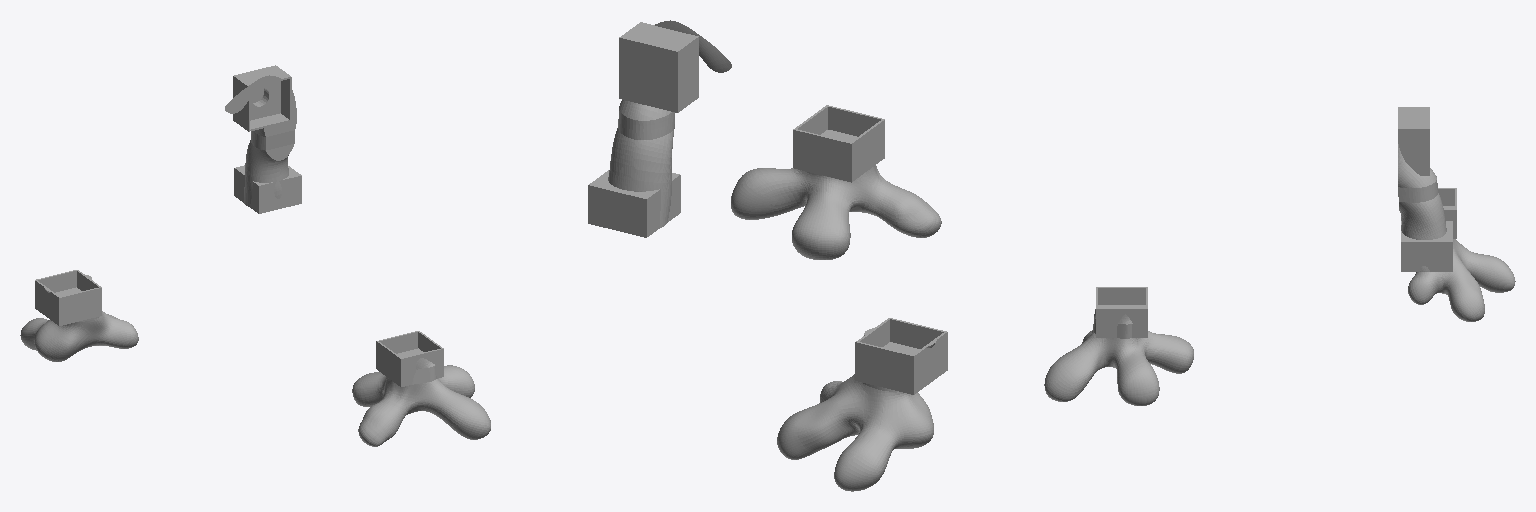
URDF robot description (FrogBot2_top-FrogBot2-y-3_bottom-FrogBot2-y-3):
<?xml version="1.0" ?>
<robot name="FrogBot2_top-FrogBot2-y-3_bottom-FrogBot2-y-3">

<material name="pla_5_percent_infill">
  <color rgba="0.700 0.700 0.700 1.000"/>
</material>

<link name="base_link">
  <inertial>
    <origin xyz="0 0 0" rpy="0 0 0"/>
    <mass value="1.3341577719423"/>
    <inertia ixx="0.0046797925109551535" iyy="0.011134478382956134" izz="0.010477176548232365" ixy="0.00012495104989682066" iyz="8.213962567094231e-05" ixz="-0.002474445058077273"/>
  </inertial>
  <visual>
    <origin xyz="0 0 0" rpy="0 0 0"/>
    <geometry>
      <mesh filename="simple_meshes/base_link.stl" scale="0.001 0.001 0.001"/>
    </geometry>
    <material name="pla_5_percent_infill"/>
  </visual>
  <collision>
    <origin xyz="0 0 0" rpy="0 0 0"/>
    <geometry>
      <mesh filename="simple_meshes/base_link.stl" scale="0.001 0.001 0.001"/>
    </geometry>
  </collision>
</link>

<link name="body_1_0_1">
  <inertial>
    <origin xyz="-0.053395 -0.09218 -0.023663" rpy="0 0 0"/>
    <mass value="0.05648160684277666"/>
    <inertia ixx="8.17384691846933e-05" iyy="8.51372283889378e-05" izz="1.9048322606937933e-05" ixy="-2.575033275290504e-07" iyz="5.440145892124311e-06" ixz="8.44998256969378e-06"/>
  </inertial>
  <visual>
    <origin xyz="-0.053395 -0.09218 -0.023663" rpy="0 0 0"/>
    <geometry>
      <mesh filename="simple_meshes/body_1_0_1.stl" scale="0.001 0.001 0.001"/>
    </geometry>
    <material name="pla_5_percent_infill"/>
  </visual>
  <collision>
    <origin xyz="-0.053395 -0.09218 -0.023663" rpy="0 0 0"/>
    <geometry>
      <mesh filename="simple_meshes/body_1_0_1.stl" scale="0.001 0.001 0.001"/>
    </geometry>
  </collision>
</link>

<link name="body_1_1_1">
  <inertial>
    <origin xyz="0.095032 -0.09218 0.005345" rpy="0 0 0"/>
    <mass value="0.11343408939786619"/>
    <inertia ixx="8.876701132902974e-05" iyy="0.00015893219856201782" izz="0.00011116326467815792" ixy="5.126560505398e-06" iyz="5.655912101525736e-06" ixz="-4.357744184957981e-05"/>
  </inertial>
  <visual>
    <origin xyz="0.095032 -0.09218 0.005345" rpy="0 0 0"/>
    <geometry>
      <mesh filename="simple_meshes/body_1_1_1.stl" scale="0.001 0.001 0.001"/>
    </geometry>
    <material name="pla_5_percent_infill"/>
  </visual>
  <collision>
    <origin xyz="0.095032 -0.09218 0.005345" rpy="0 0 0"/>
    <geometry>
      <mesh filename="simple_meshes/body_1_1_1.stl" scale="0.001 0.001 0.001"/>
    </geometry>
  </collision>
</link>

<link name="body_1_2_1">
  <inertial>
    <origin xyz="-0.041549 0.09218 -0.043945" rpy="0 0 0"/>
    <mass value="0.06437215046671935"/>
    <inertia ixx="0.00013958336140981178" iyy="0.00014477917411189354" izz="3.019889518643881e-05" ixy="1.5514756816226443e-06" iyz="-1.9056976135542177e-05" ixz="2.018982065934554e-05"/>
  </inertial>
  <visual>
    <origin xyz="-0.041549 0.09218 -0.043945" rpy="0 0 0"/>
    <geometry>
      <mesh filename="simple_meshes/body_1_2_1.stl" scale="0.001 0.001 0.001"/>
    </geometry>
    <material name="pla_5_percent_infill"/>
  </visual>
  <collision>
    <origin xyz="-0.041549 0.09218 -0.043945" rpy="0 0 0"/>
    <geometry>
      <mesh filename="simple_meshes/body_1_2_1.stl" scale="0.001 0.001 0.001"/>
    </geometry>
  </collision>
</link>

<link name="body_1_3_1">
  <inertial>
    <origin xyz="0.087142 0.09218 -0.003397" rpy="0 0 0"/>
    <mass value="0.11618853477267414"/>
    <inertia ixx="9.156363317311877e-05" iyy="0.0001600990692707748" izz="0.00011186851080517181" ixy="-8.427779590018062e-06" iyz="-5.743181871006755e-06" ixz="-4.379667387535561e-05"/>
  </inertial>
  <visual>
    <origin xyz="0.087142 0.09218 -0.003397" rpy="0 0 0"/>
    <geometry>
      <mesh filename="simple_meshes/body_1_3_1.stl" scale="0.001 0.001 0.001"/>
    </geometry>
    <material name="pla_5_percent_infill"/>
  </visual>
  <collision>
    <origin xyz="0.087142 0.09218 -0.003397" rpy="0 0 0"/>
    <geometry>
      <mesh filename="simple_meshes/body_1_3_1.stl" scale="0.001 0.001 0.001"/>
    </geometry>
  </collision>
</link>

<link name="body_2_0_1">
  <inertial>
    <origin xyz="-0.065654 -0.139685 0.109558" rpy="0 0 0"/>
    <mass value="0.10732840415785681"/>
    <inertia ixx="0.0001192305096259184" iyy="0.00013145371837321" izz="0.00019098555863710908" ixy="-1.0502149492426375e-05" iyz="5.363771324035874e-06" ixz="7.047950432088543e-06"/>
  </inertial>
  <visual>
    <origin xyz="-0.065654 -0.139685 0.109558" rpy="0 0 0"/>
    <geometry>
      <mesh filename="simple_meshes/body_2_0_1.stl" scale="0.001 0.001 0.001"/>
    </geometry>
    <material name="pla_5_percent_infill"/>
  </visual>
  <collision>
    <origin xyz="-0.065654 -0.139685 0.109558" rpy="0 0 0"/>
    <geometry>
      <mesh filename="simple_meshes/body_2_0_1.stl" scale="0.001 0.001 0.001"/>
    </geometry>
  </collision>
</link>

<link name="body_2_1_1">
  <inertial>
    <origin xyz="0.15751 -0.143533 0.109558" rpy="0 0 0"/>
    <mass value="0.0860653626022424"/>
    <inertia ixx="7.756502601669046e-05" iyy="9.193496740516217e-05" izz="9.721637056358742e-05" ixy="-4.6656477964922803e-07" iyz="2.136040429450174e-05" ixz="1.2574656839804774e-05"/>
  </inertial>
  <visual>
    <origin xyz="0.15751 -0.143533 0.109558" rpy="0 0 0"/>
    <geometry>
      <mesh filename="simple_meshes/body_2_1_1.stl" scale="0.001 0.001 0.001"/>
    </geometry>
    <material name="pla_5_percent_infill"/>
  </visual>
  <collision>
    <origin xyz="0.15751 -0.143533 0.109558" rpy="0 0 0"/>
    <geometry>
      <mesh filename="simple_meshes/body_2_1_1.stl" scale="0.001 0.001 0.001"/>
    </geometry>
  </collision>
</link>

<link name="body_2_2_1">
  <inertial>
    <origin xyz="-0.061161 0.145934 0.109558" rpy="0 0 0"/>
    <mass value="0.10499428380845426"/>
    <inertia ixx="0.00011928823712848216" iyy="0.0001282802502921218" izz="0.0001908686347146353" ixy="1.171953890061867e-05" iyz="-3.3117822349024856e-06" ixz="4.193734802363262e-06"/>
  </inertial>
  <visual>
    <origin xyz="-0.061161 0.145934 0.109558" rpy="0 0 0"/>
    <geometry>
      <mesh filename="simple_meshes/body_2_2_1.stl" scale="0.001 0.001 0.001"/>
    </geometry>
    <material name="pla_5_percent_infill"/>
  </visual>
  <collision>
    <origin xyz="-0.061161 0.145934 0.109558" rpy="0 0 0"/>
    <geometry>
      <mesh filename="simple_meshes/body_2_2_1.stl" scale="0.001 0.001 0.001"/>
    </geometry>
  </collision>
</link>

<link name="body_2_3_1">
  <inertial>
    <origin xyz="0.160089 0.145768 0.109558" rpy="0 0 0"/>
    <mass value="0.0808882115237439"/>
    <inertia ixx="7.868983741954935e-05" iyy="8.728263659224262e-05" izz="9.167010927556112e-05" ixy="-2.407602347498112e-07" iyz="-2.2565158794420753e-05" ixz="1.6436364140187502e-05"/>
  </inertial>
  <visual>
    <origin xyz="0.160089 0.145768 0.109558" rpy="0 0 0"/>
    <geometry>
      <mesh filename="simple_meshes/body_2_3_1.stl" scale="0.001 0.001 0.001"/>
    </geometry>
    <material name="pla_5_percent_infill"/>
  </visual>
  <collision>
    <origin xyz="0.160089 0.145768 0.109558" rpy="0 0 0"/>
    <geometry>
      <mesh filename="simple_meshes/body_2_3_1.stl" scale="0.001 0.001 0.001"/>
    </geometry>
  </collision>
</link>

<joint name="joint_1_0" type="revolute">
  <origin xyz="0.053395 0.09218 0.023663" rpy="0 0 0"/>
  <parent link="base_link"/>
  <child link="body_1_0_1"/>
  <axis xyz="0.0 0.0 -1.0"/>
  <limit upper="1.2" lower="-1.2" effort="3.8" velocity="5.4"/>
</joint>
<transmission name="joint_1_0_tran">
  <type>transmission_interface/SimpleTransmission</type>
  <joint name="joint_1_0">
    <hardwareInterface>PositionJointInterface</hardwareInterface>
  </joint>
  <actuator name="joint_1_0_actr">
    <hardwareInterface>PositionJointInterface</hardwareInterface>
    <mechanicalReduction>1</mechanicalReduction>
  </actuator>
</transmission>

<joint name="joint_1_1" type="revolute">
  <origin xyz="-0.095032 0.09218 -0.005345" rpy="0 0 0"/>
  <parent link="base_link"/>
  <child link="body_1_1_1"/>
  <axis xyz="0.0 0.0 -1.0"/>
  <limit upper="1.2" lower="-1.2" effort="3.8" velocity="5.4"/>
</joint>
<transmission name="joint_1_1_tran">
  <type>transmission_interface/SimpleTransmission</type>
  <joint name="joint_1_1">
    <hardwareInterface>PositionJointInterface</hardwareInterface>
  </joint>
  <actuator name="joint_1_1_actr">
    <hardwareInterface>PositionJointInterface</hardwareInterface>
    <mechanicalReduction>1</mechanicalReduction>
  </actuator>
</transmission>

<joint name="joint_1_2" type="revolute">
  <origin xyz="0.041549 -0.09218 0.043945" rpy="0 0 0"/>
  <parent link="base_link"/>
  <child link="body_1_2_1"/>
  <axis xyz="0.0 0.0 -1.0"/>
  <limit upper="1.2" lower="-1.2" effort="3.8" velocity="5.4"/>
</joint>
<transmission name="joint_1_2_tran">
  <type>transmission_interface/SimpleTransmission</type>
  <joint name="joint_1_2">
    <hardwareInterface>PositionJointInterface</hardwareInterface>
  </joint>
  <actuator name="joint_1_2_actr">
    <hardwareInterface>PositionJointInterface</hardwareInterface>
    <mechanicalReduction>1</mechanicalReduction>
  </actuator>
</transmission>

<joint name="joint_1_3" type="revolute">
  <origin xyz="-0.087142 -0.09218 0.003397" rpy="0 0 0"/>
  <parent link="base_link"/>
  <child link="body_1_3_1"/>
  <axis xyz="0.0 0.0 -1.0"/>
  <limit upper="1.2" lower="-1.2" effort="3.8" velocity="5.4"/>
</joint>
<transmission name="joint_1_3_tran">
  <type>transmission_interface/SimpleTransmission</type>
  <joint name="joint_1_3">
    <hardwareInterface>PositionJointInterface</hardwareInterface>
  </joint>
  <actuator name="joint_1_3_actr">
    <hardwareInterface>PositionJointInterface</hardwareInterface>
    <mechanicalReduction>1</mechanicalReduction>
  </actuator>
</transmission>

<joint name="joint_2_0" type="revolute">
  <origin xyz="0.012259 0.047505 -0.133221" rpy="0 0 0"/>
  <parent link="body_1_0_1"/>
  <child link="body_2_0_1"/>
  <axis xyz="0.0 1.0 0.0"/>
  <limit upper="1.2" lower="-1.2" effort="3.8" velocity="5.4"/>
</joint>
<transmission name="joint_2_0_tran">
  <type>transmission_interface/SimpleTransmission</type>
  <joint name="joint_2_0">
    <hardwareInterface>PositionJointInterface</hardwareInterface>
  </joint>
  <actuator name="joint_2_0_actr">
    <hardwareInterface>PositionJointInterface</hardwareInterface>
    <mechanicalReduction>1</mechanicalReduction>
  </actuator>
</transmission>

<joint name="joint_2_1" type="revolute">
  <origin xyz="-0.062478 0.051353 -0.104213" rpy="0 0 0"/>
  <parent link="body_1_1_1"/>
  <child link="body_2_1_1"/>
  <axis xyz="0.0 1.0 0.0"/>
  <limit upper="1.2" lower="-1.2" effort="3.8" velocity="5.4"/>
</joint>
<transmission name="joint_2_1_tran">
  <type>transmission_interface/SimpleTransmission</type>
  <joint name="joint_2_1">
    <hardwareInterface>PositionJointInterface</hardwareInterface>
  </joint>
  <actuator name="joint_2_1_actr">
    <hardwareInterface>PositionJointInterface</hardwareInterface>
    <mechanicalReduction>1</mechanicalReduction>
  </actuator>
</transmission>

<joint name="joint_2_2" type="revolute">
  <origin xyz="0.019612 -0.053754 -0.153503" rpy="0 0 0"/>
  <parent link="body_1_2_1"/>
  <child link="body_2_2_1"/>
  <axis xyz="0.0 1.0 0.0"/>
  <limit upper="1.2" lower="-1.2" effort="3.8" velocity="5.4"/>
</joint>
<transmission name="joint_2_2_tran">
  <type>transmission_interface/SimpleTransmission</type>
  <joint name="joint_2_2">
    <hardwareInterface>PositionJointInterface</hardwareInterface>
  </joint>
  <actuator name="joint_2_2_actr">
    <hardwareInterface>PositionJointInterface</hardwareInterface>
    <mechanicalReduction>1</mechanicalReduction>
  </actuator>
</transmission>

<joint name="joint_2_3" type="revolute">
  <origin xyz="-0.072947 -0.053588 -0.112955" rpy="0 0 0"/>
  <parent link="body_1_3_1"/>
  <child link="body_2_3_1"/>
  <axis xyz="0.0 1.0 0.0"/>
  <limit upper="1.2" lower="-1.2" effort="3.8" velocity="5.4"/>
</joint>
<transmission name="joint_2_3_tran">
  <type>transmission_interface/SimpleTransmission</type>
  <joint name="joint_2_3">
    <hardwareInterface>PositionJointInterface</hardwareInterface>
  </joint>
  <actuator name="joint_2_3_actr">
    <hardwareInterface>PositionJointInterface</hardwareInterface>
    <mechanicalReduction>1</mechanicalReduction>
  </actuator>
</transmission>

</robot>

--- Render facts (derived) ---
Views: 3 orthographic renders of the robot side by side, from view 1: azimuth 30°, elevation 25°; view 2: azimuth 150°, elevation 25°; view 3: azimuth 270°, elevation 25°.
Model FrogBot2_top-FrogBot2-y-3_bottom-FrogBot2-y-3 with 9 links and 8 joints (8 revolute), rooted at base_link, posed all joints at 0.
Visible links, largest first — view 1: body_2_2_1, body_1_0_1, body_2_1_1; view 2: body_2_2_1, body_1_0_1, body_2_1_1; view 3: body_2_2_1, body_1_0_1, body_2_1_1.
Link boxes in pixels (bbox=[...]): body_2_2_1: bbox=[352, 331, 490, 446]; body_1_0_1: bbox=[225, 65, 301, 213]; body_2_1_1: bbox=[20, 270, 138, 361]; body_2_2_1: bbox=[731, 105, 941, 259]; body_1_0_1: bbox=[588, 20, 731, 237]; body_2_1_1: bbox=[777, 318, 947, 491]; body_2_2_1: bbox=[1044, 287, 1193, 405]; body_1_0_1: bbox=[1398, 107, 1452, 271]; body_2_1_1: bbox=[1408, 188, 1515, 321].
Size in the robot's own frame: 0.3257 by 0.4411 by 0.284 metres.
Meshes: 9 distinct files referenced, 3 mesh visuals loaded (3 binary STL); not drawn: 6 (reference not matched to a file when rendering).